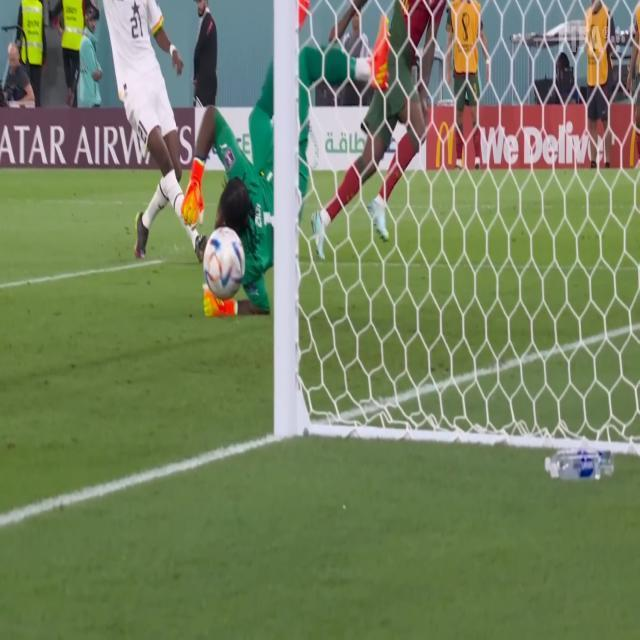football: (170, 224, 269, 297)
